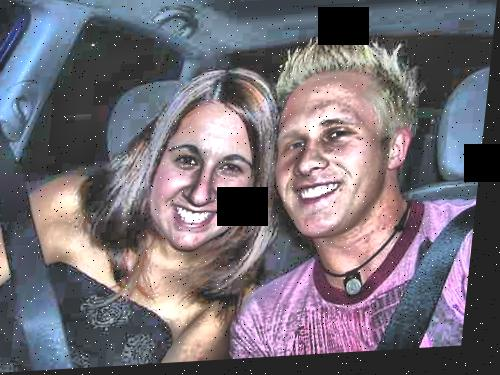seatbelt: (0, 119, 100, 343), (378, 212, 464, 350)
